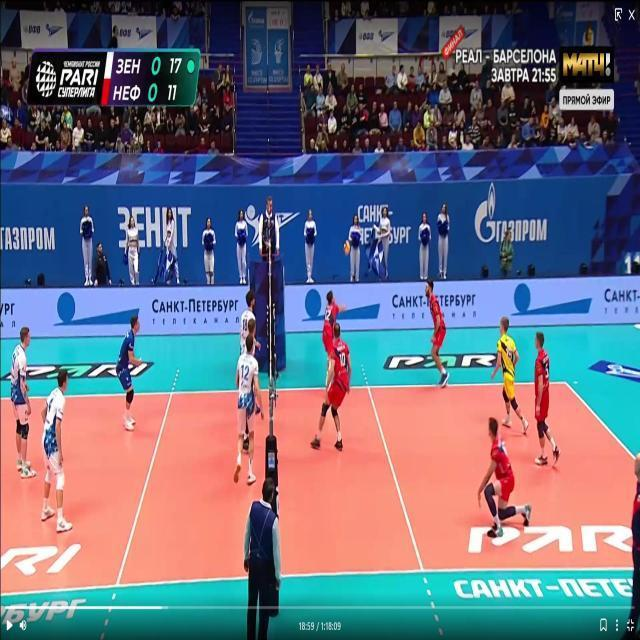volleyball: (343, 240, 351, 255)
